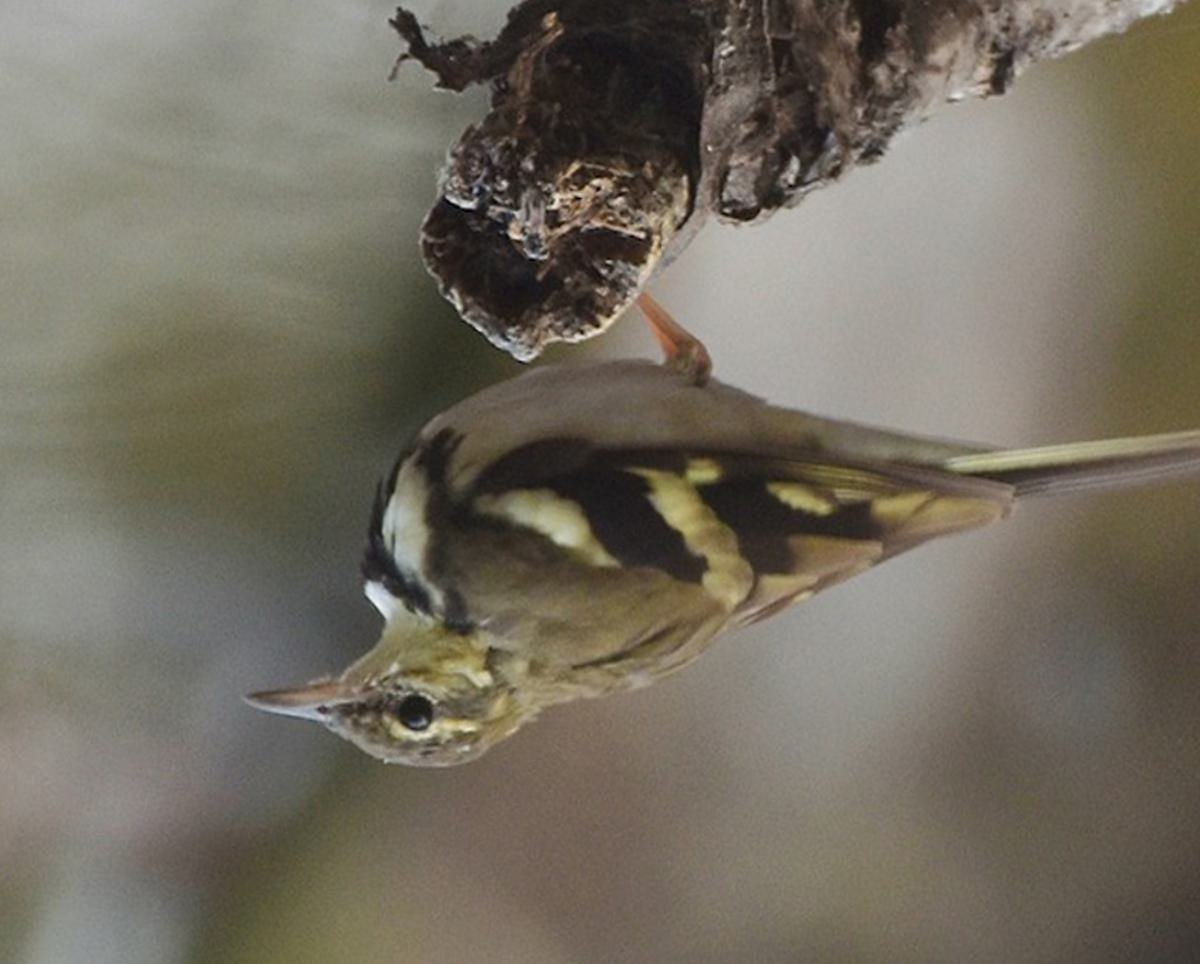wagtail: (218, 279, 1200, 804)
